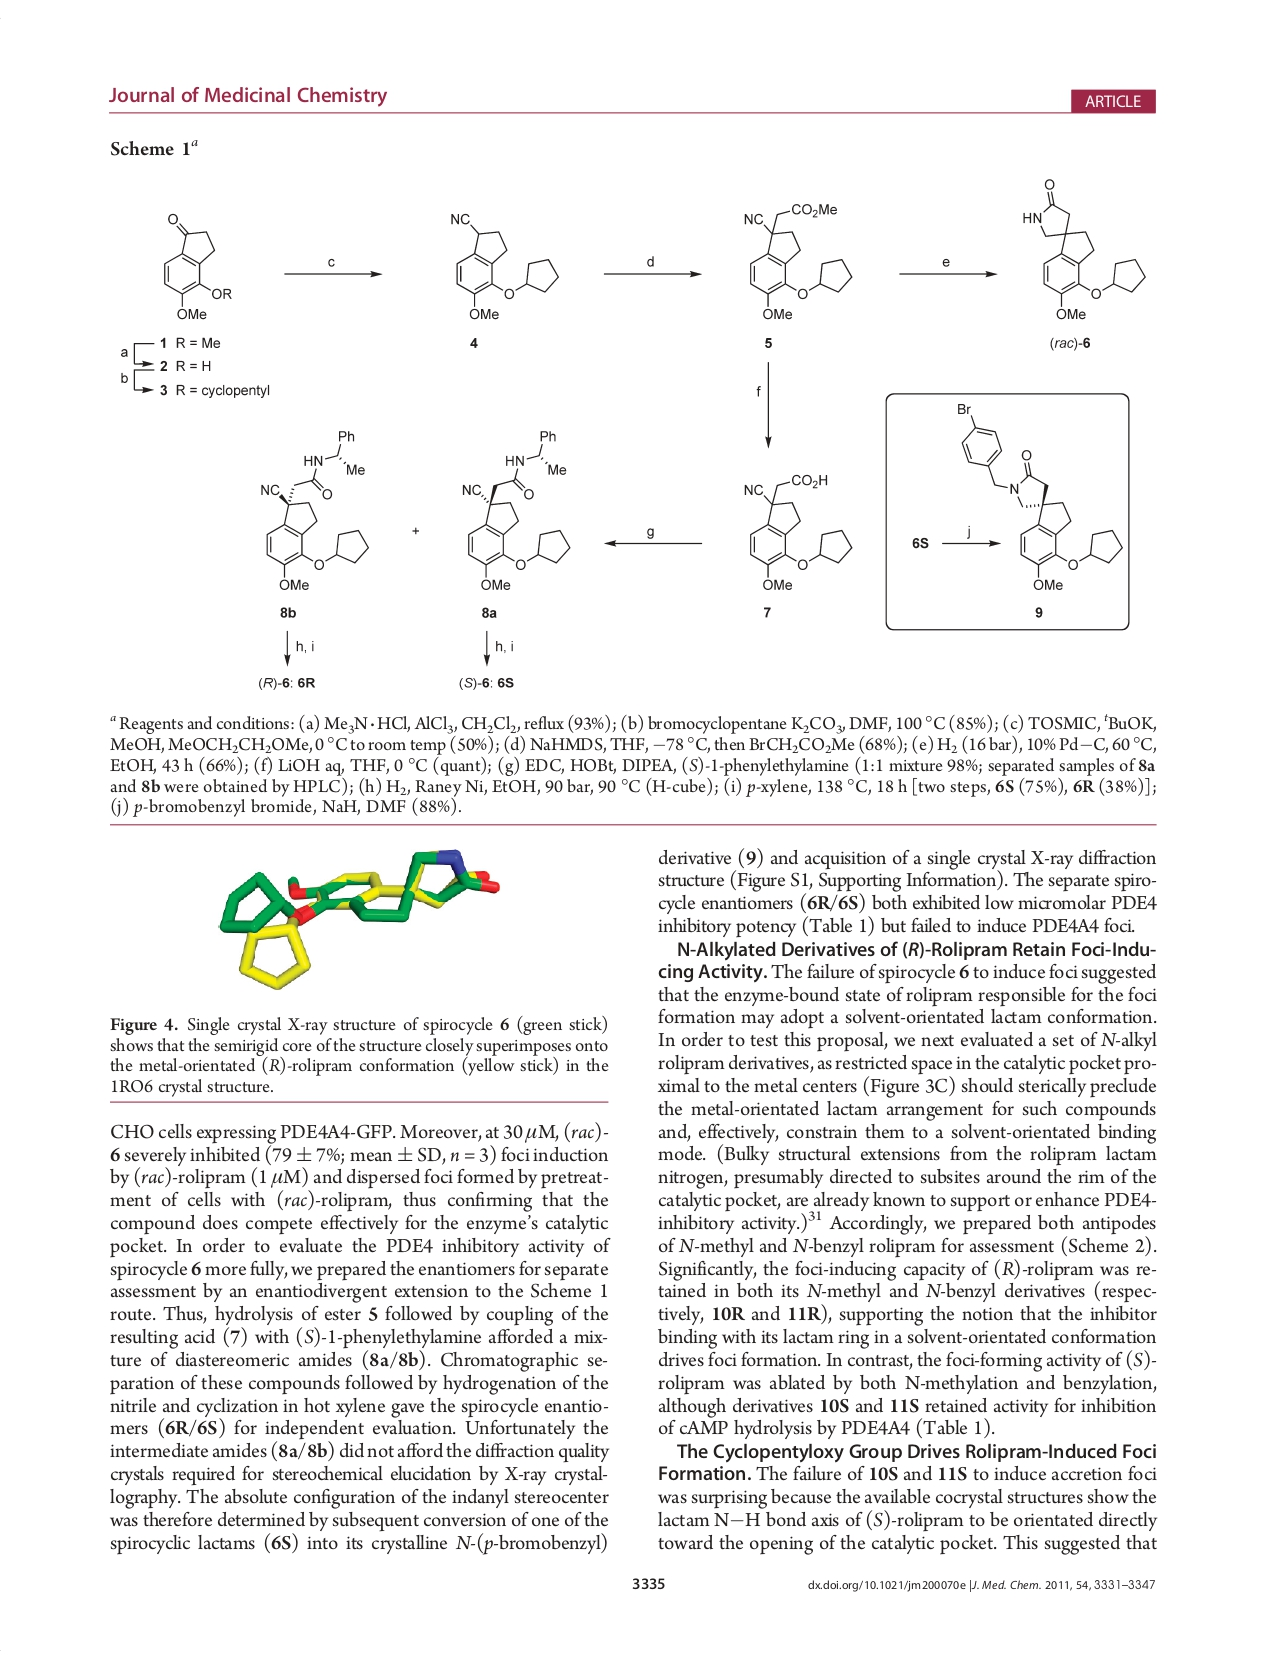exist_molecular: (955, 400, 1126, 594), (1017, 173, 1152, 326), (456, 423, 574, 594), (257, 428, 376, 594), (435, 203, 564, 328), (739, 197, 855, 326), (739, 467, 855, 594), (152, 207, 237, 327)
